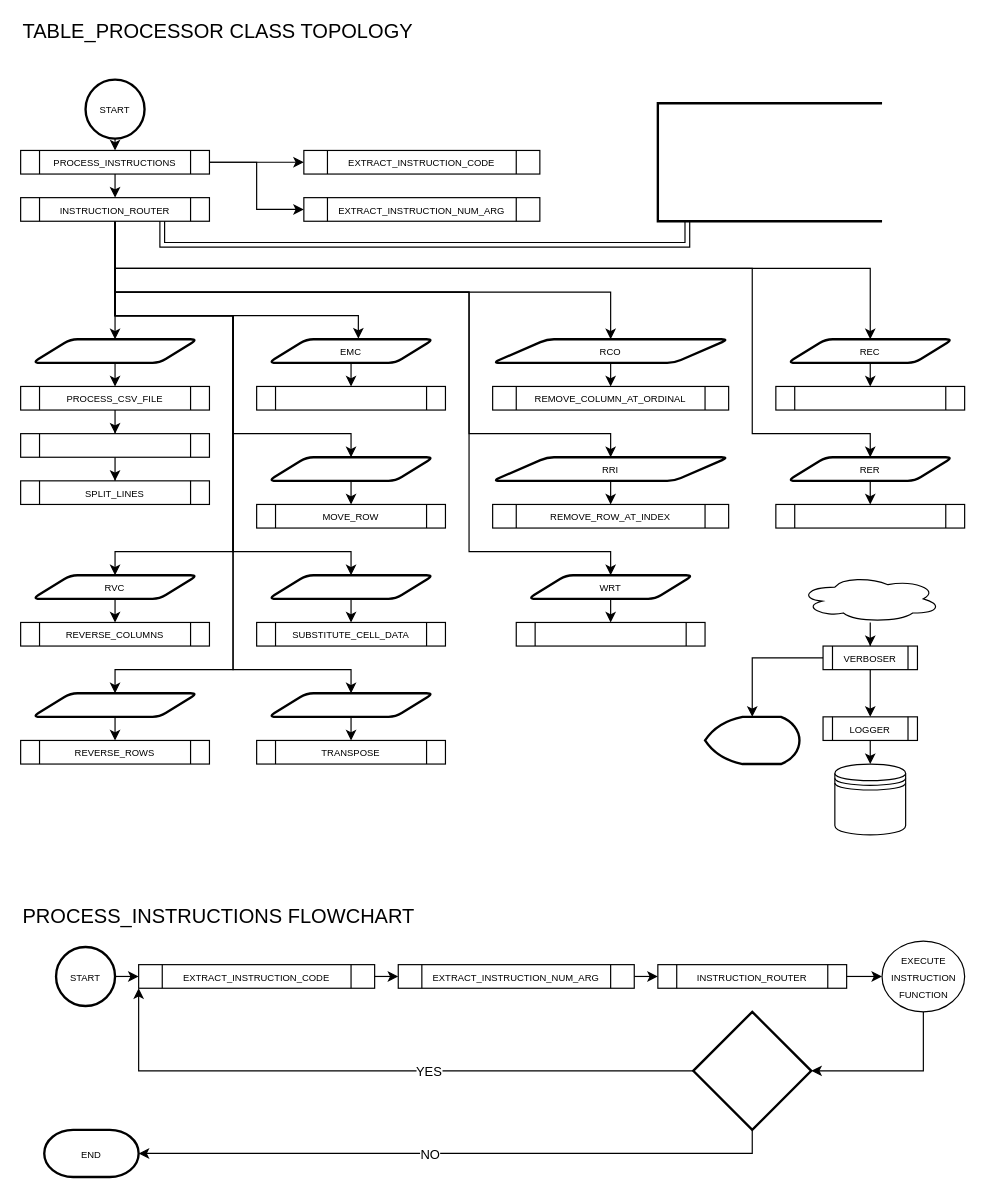
Image size: 985x1198. Some labels were removed from this diagram. The centre of each missing label's shape, as x and y in pixels:
"ALL FUNCTIONS" goes at (x=869, y=598).
"ARE THERE MORE INSTRUCTIONS?" goes at (x=751, y=1070).
"CONSOLE" goes at (x=751, y=740).
"CSV" goes at (x=114, y=350).
"EMR" goes at (x=350, y=468).
"INSTRUCTIONS HANDLED WITHIN INSTRUCTION_ROUTER DMC DMR INV TDD TDE" goes at (x=769, y=161).
"LOG" goes at (x=870, y=799).
"MOVE_COLUMN" goes at (x=350, y=397).
"READ_CSV_LINES" goes at (x=114, y=444).
"REMOVE_EMPTY_COLUMNS" goes at (x=870, y=397).
"REMOVE_EMPTY_ROWS" goes at (x=870, y=515).
"RVR" goes at (x=114, y=704).
"SCD" goes at (x=350, y=586).
"TRP" goes at (x=350, y=704).
"WRITE_CSV_FILE" goes at (x=610, y=633).
